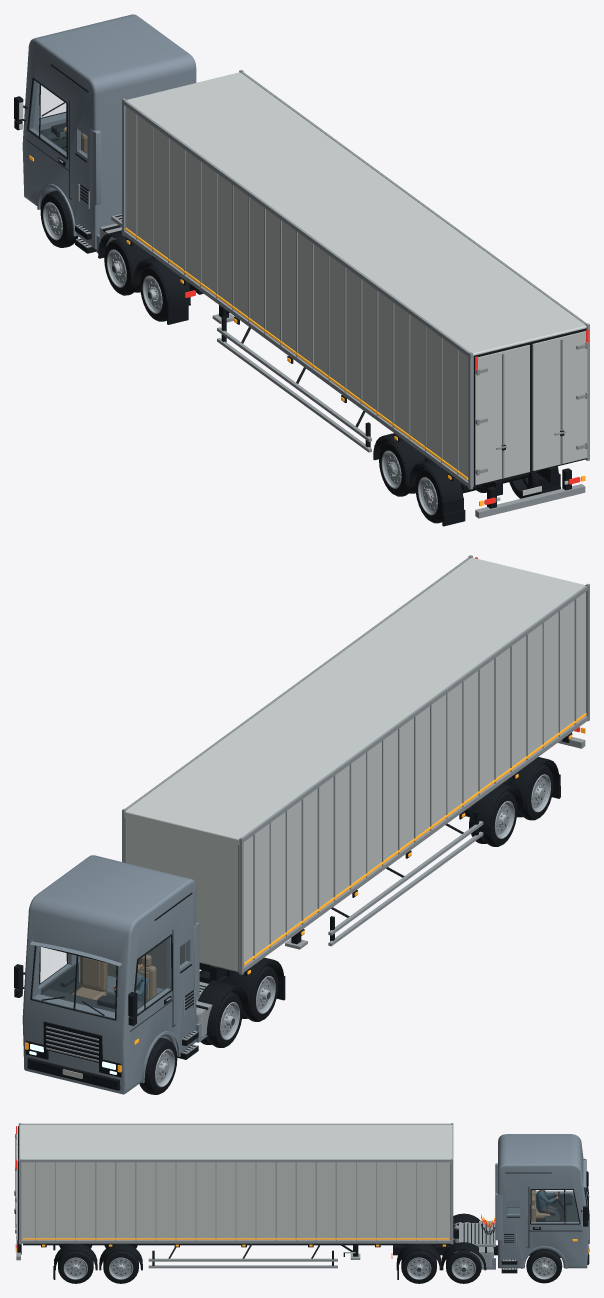
File: semi.glb
The picture shows the model from 3 angles, top to bottom: view 1: azimuth 30°, elevation 25°; view 2: azimuth 150°, elevation 25°; view 3: azimuth 270°, elevation 25°; orthographic projection. The views are drawn at different scales.
Visible parts, largest first — view 1: detail.006, body, detail.007, detail.008, Cab cooling louver -1 00, detail.001, commercial_tire_and_vented_steel_rim.004, detail.009, commercial_tire_and_vented_steel_rim.006, commercial_tire_and_vented_steel_rim, commercial_tire_and_vented_steel_rim.008, commercial_tire_and_vented_steel_rim.002; view 2: detail.006, body, detail.007, Cab cooling louver -1 00, detail.001, Adjustable head restraint, detail.008, commercial_tire_and_vented_steel_rim.004, detail.002, detail.009, commercial_tire_and_vented_steel_rim.006, commercial_tire_and_vented_steel_rim (+2 smaller); view 3: detail.006, body, detail.007, Cab cooling louver -1 00, detail.008, detail.001, Adjustable head restraint, detail.002, commercial_tire_and_vented_steel_rim.009, commercial_tire_and_vented_steel_rim.005, commercial_tire_and_vented_steel_rim.007, commercial_tire_and_vented_steel_rim.001 (+2 smaller).
Part boxes in pixels (x1,y1,x2,y2): detail.006: (126,72,587,501); body: (22,14,196,253); detail.007: (122,70,589,518); detail.008: (126,238,587,526); Cab cooling louver -1 00: (14,64,203,324); detail.001: (29,80,86,158); commercial_tire_and_vented_steel_rim.004: (40,191,78,247); detail.009: (125,227,468,479); commercial_tire_and_vented_steel_rim.006: (104,239,140,295); commercial_tire_and_vented_steel_rim: (379,440,415,496); commercial_tire_and_vented_steel_rim.008: (140,265,167,321); commercial_tire_and_vented_steel_rim.002: (415,467,442,523); detail.006: (125,557,585,971); body: (22,855,207,1094); detail.007: (122,555,589,974); Cab cooling louver -1 00: (14,892,285,1090); detail.001: (32,937,190,1018); Adjustable head restraint: (40,940,185,1012); detail.008: (199,732,572,980); commercial_tire_and_vented_steel_rim.004: (139,1038,177,1094); detail.002: (46,982,230,1061); detail.009: (243,713,586,974); commercial_tire_and_vented_steel_rim.006: (200,992,242,1047); commercial_tire_and_vented_steel_rim: (471,791,517,846); detail.006: (15,1124,452,1244); body: (481,1134,588,1269); detail.007: (14,1123,453,1268); Cab cooling louver -1 00: (393,1171,589,1279); detail.008: (14,1126,448,1279); detail.001: (507,1190,587,1222); Adjustable head restraint: (507,1190,578,1221); detail.002: (454,1213,589,1269); commercial_tire_and_vented_steel_rim.009: (401,1250,436,1283); commercial_tire_and_vented_steel_rim.005: (526,1249,562,1283); commercial_tire_and_vented_steel_rim.007: (446,1250,481,1283); commercial_tire_and_vented_steel_rim.001: (103,1251,138,1283).
Size of the model in its own units: 2.49 by 3.97 by 16.39.
